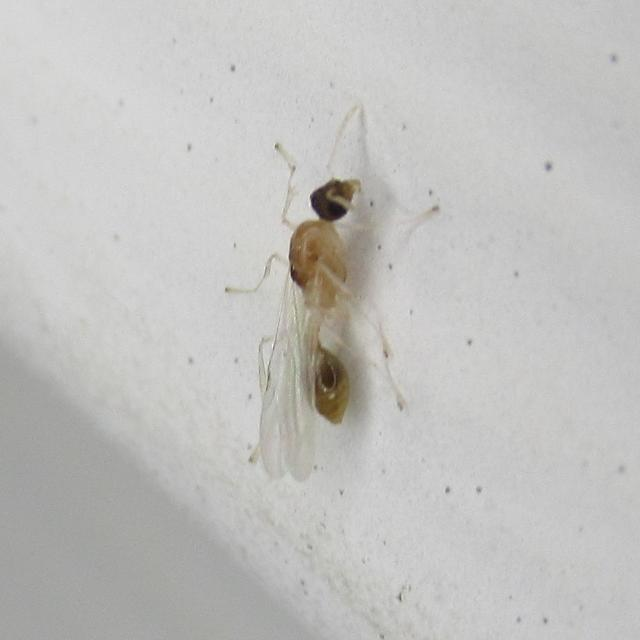Temnothorax: (236, 128, 418, 444)
